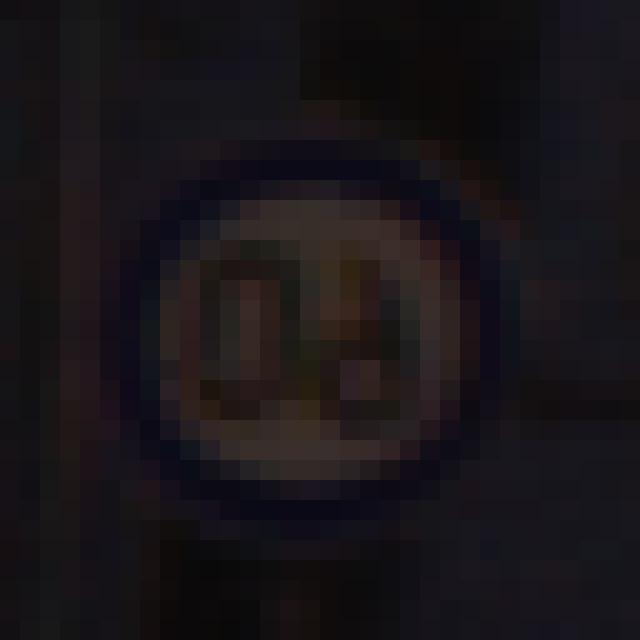SPEED-LIMIT-60: (87, 136, 508, 528)
